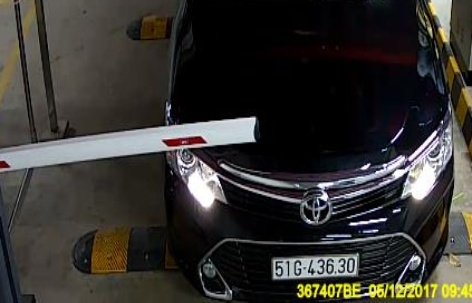plate: (266, 249, 357, 279)
